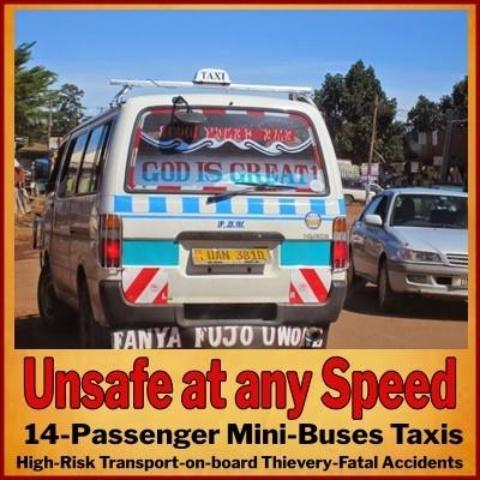car: (354, 173, 469, 303)
van: (30, 60, 350, 345)
